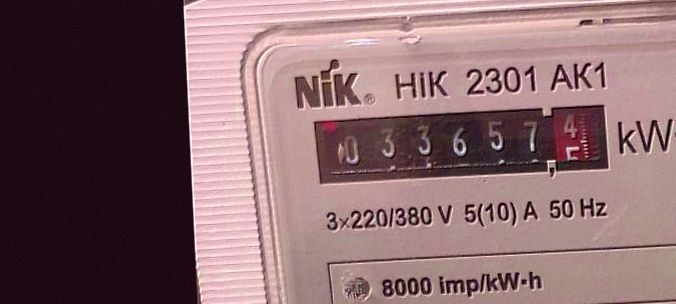0: (340, 131, 363, 169)
3: (378, 125, 398, 161), (414, 122, 433, 158)
4: (560, 110, 581, 141)
5: (484, 117, 507, 154)
6: (448, 124, 469, 160)
7: (521, 117, 540, 154)
screen: (301, 97, 618, 193)
